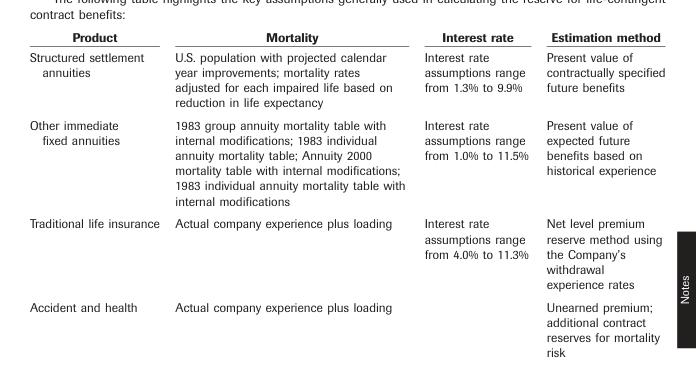table: (28, 28, 664, 359)
table column: (166, 28, 414, 359), (28, 28, 166, 359), (536, 28, 664, 359), (414, 28, 536, 359)
table column header: (28, 28, 664, 46)
table row: (28, 113, 664, 211), (28, 211, 664, 295), (28, 46, 664, 113), (28, 295, 664, 359), (28, 28, 664, 46)
